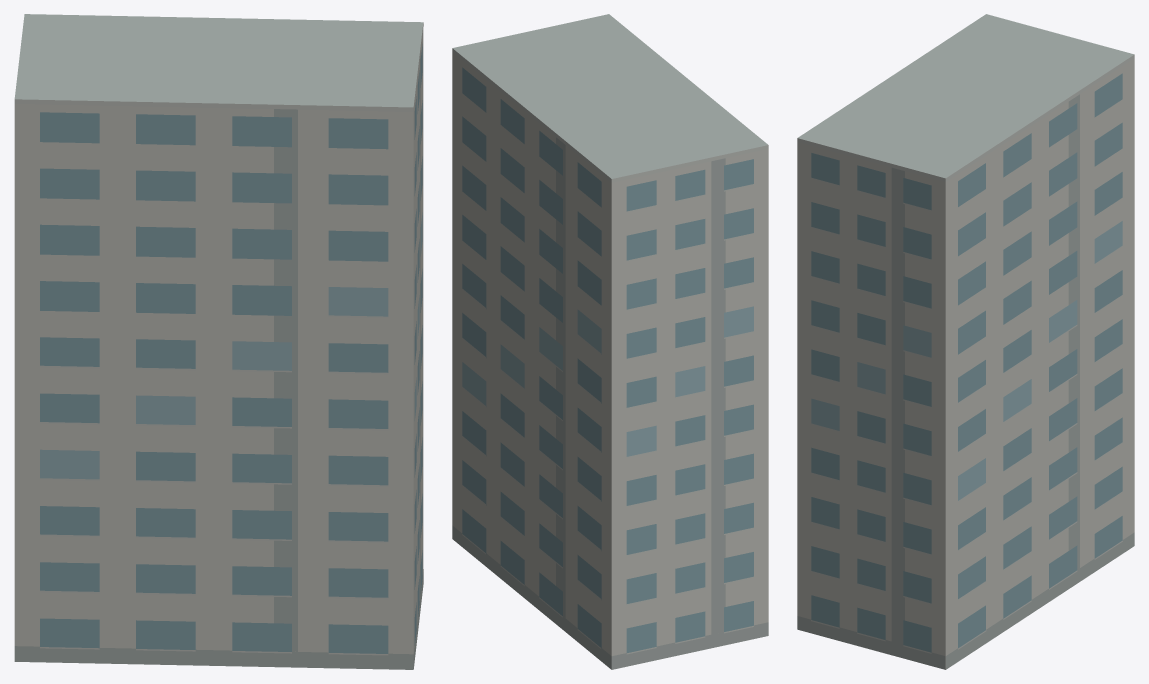
Rendered from residential-fe5202a3-2d6f-4904-b9bc-3dd7abaddb89.glb.
The picture shows the model from 3 angles, left to right: view 1: azimuth 30°, elevation 25°; view 2: azimuth 150°, elevation 25°; view 3: azimuth 270°, elevation 25°; orthographic projection. The views are drawn at different scales.
Parts seen in each view (by area): view 1: residential-fe5202a3-2d6f-4904-b9bc-3dd7abaddb89.tmp; view 2: residential-fe5202a3-2d6f-4904-b9bc-3dd7abaddb89.tmp; view 3: residential-fe5202a3-2d6f-4904-b9bc-3dd7abaddb89.tmp.
Boxes of the visible parts, x1,y1,x2,y2 form: residential-fe5202a3-2d6f-4904-b9bc-3dd7abaddb89.tmp: (14, 14, 423, 669); residential-fe5202a3-2d6f-4904-b9bc-3dd7abaddb89.tmp: (452, 14, 768, 669); residential-fe5202a3-2d6f-4904-b9bc-3dd7abaddb89.tmp: (797, 14, 1134, 669).
Bounding box in the file's own units: 22.25 × 31 × 19.29.
